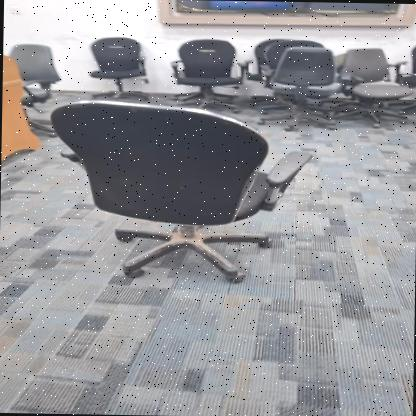chair: (36, 94, 321, 296), (160, 27, 258, 108), (334, 42, 412, 132), (269, 38, 344, 112), (84, 26, 154, 104)
